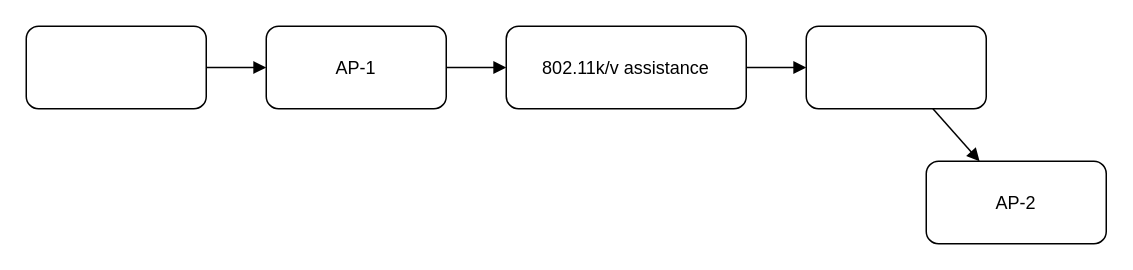
Some shapes in this 1133 by 270 pixel diagram are drawn without their labels. Each missing label, with the box of its shape:
802.11r FT: (805, 25, 986, 109)
Client: (25, 25, 206, 109)
